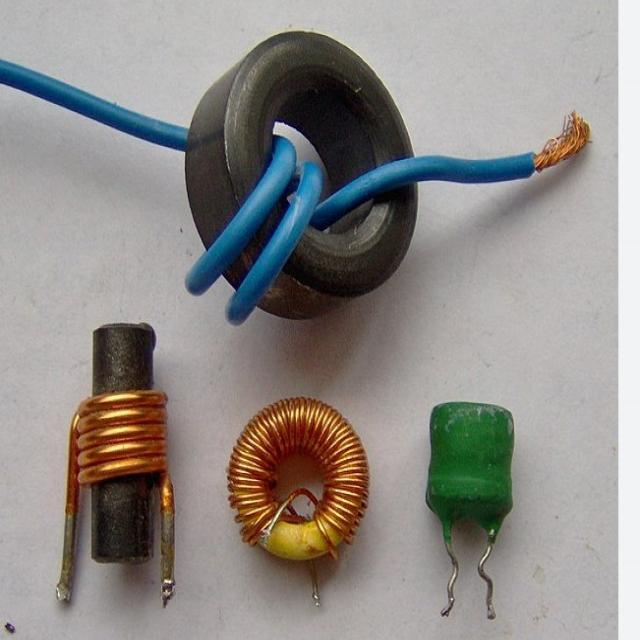Inductor: (58, 324, 175, 604), (228, 398, 369, 559)
